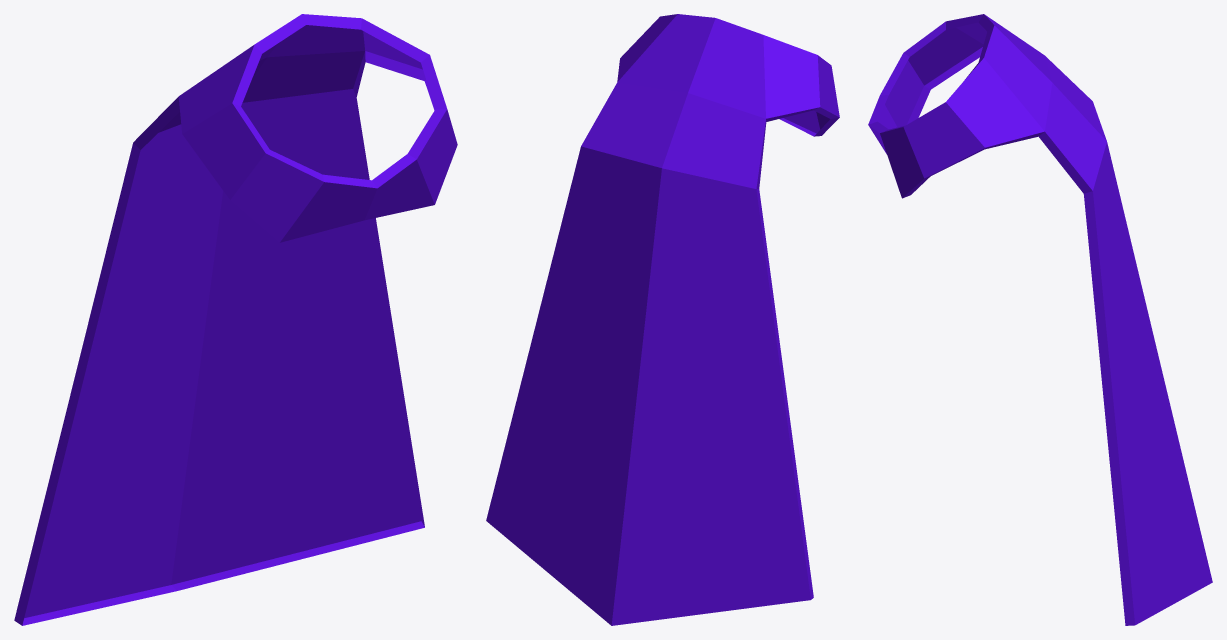
The model's file is Raincoat.fbx.
3 renders of one model, left to right at view 1: azimuth 30°, elevation 25°; view 2: azimuth 150°, elevation 25°; view 3: azimuth 270°, elevation 25°, orthographic. The views are drawn at different scales.
Visible parts, largest first — view 1: Raincoat; view 2: Raincoat; view 3: Raincoat.
Boxes of the visible parts, x1,y1,x2,y2 form: Raincoat: [14, 14, 457, 625]; Raincoat: [486, 14, 839, 625]; Raincoat: [868, 14, 1212, 625].
Bounding box in the file's own units: 25.29 × 39.65 × 22.17.
